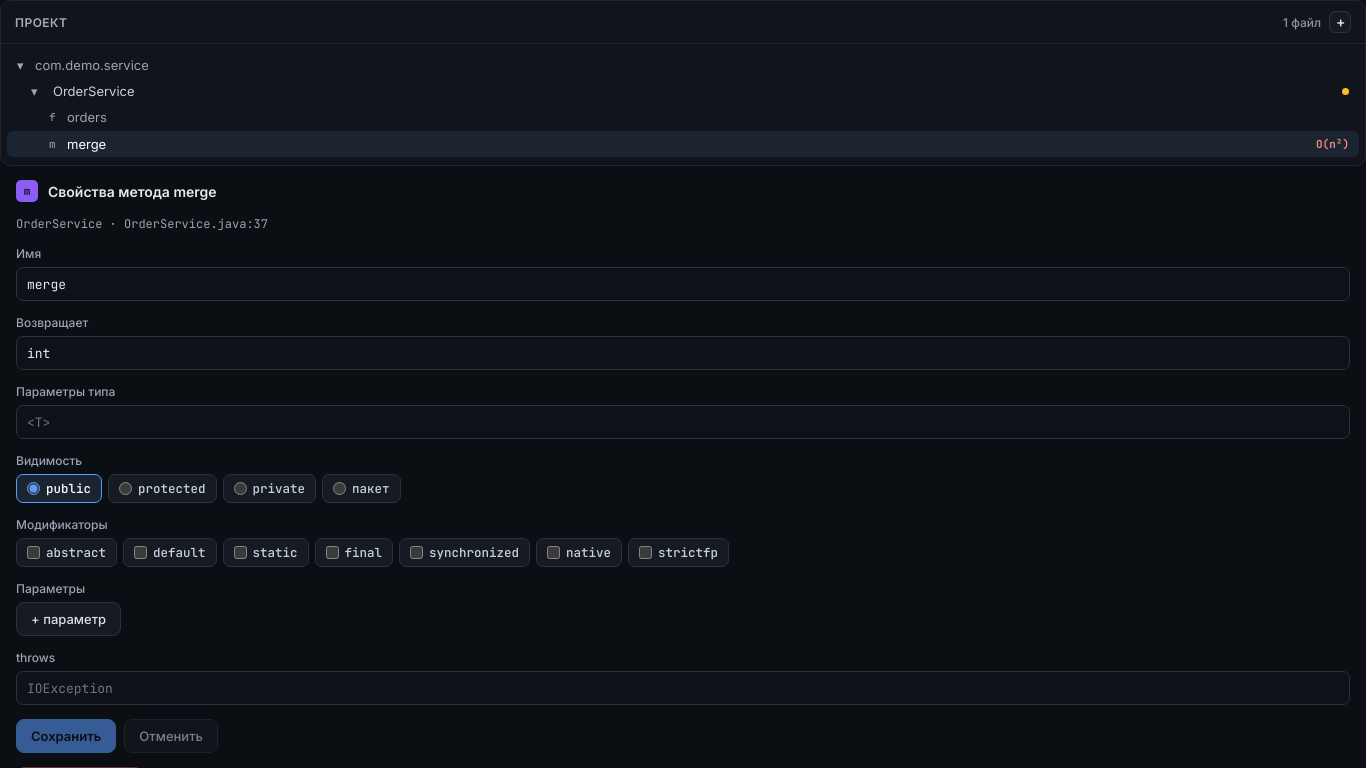
формы структуры (FE-10) › 409 — дерево перезагружается, ошибка «повторите»
Check: the list with test id "project-tree" is shown, box [7, 52, 1359, 157]
Click the checkbox labelled "static": (240, 552) [234, 546, 246, 559]
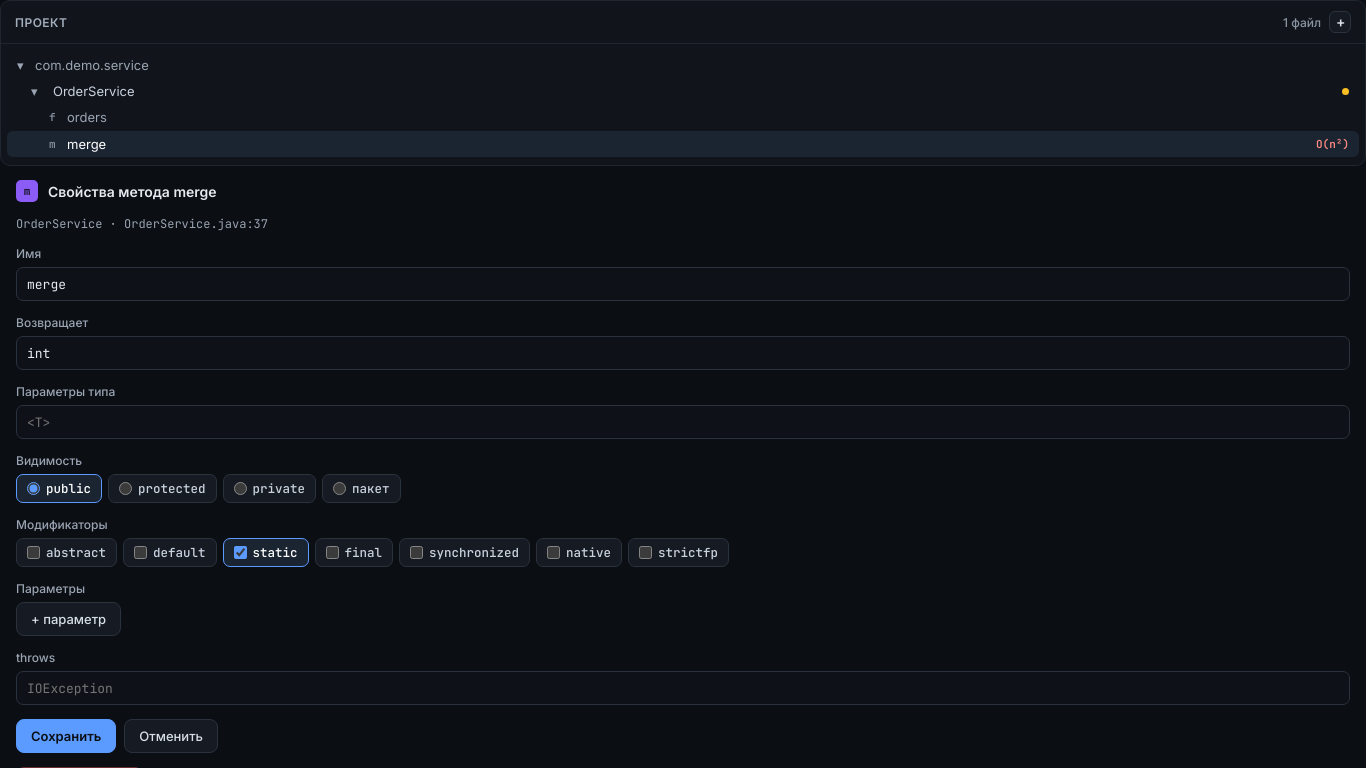
Click the button "Сохранить": (66, 736) [16, 719, 116, 753]
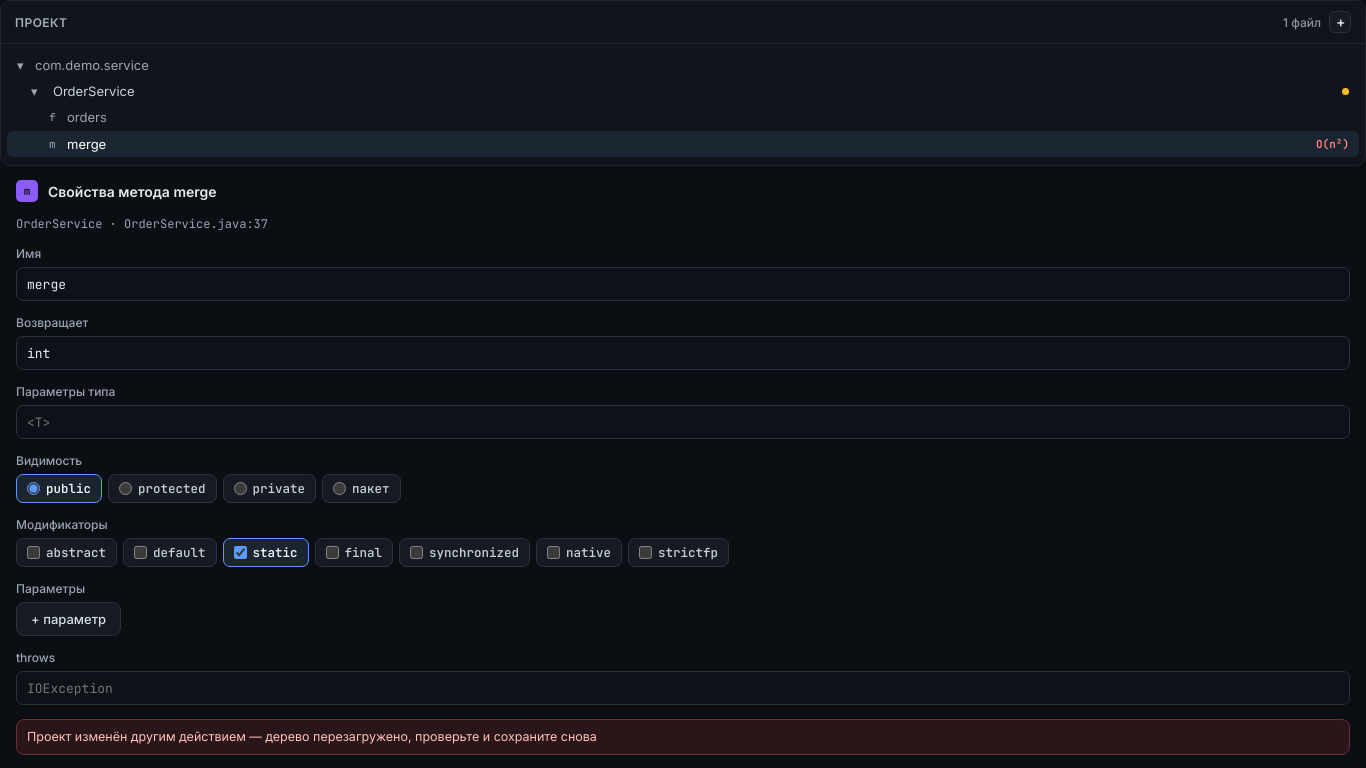
Check: the message shows "Проект изменён", box [27, 729, 597, 744]
